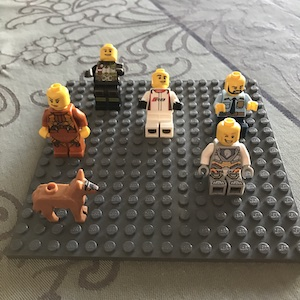Lego: (198, 117, 253, 196), (37, 83, 91, 159), (138, 67, 182, 140), (209, 72, 259, 134), (86, 42, 125, 109)
